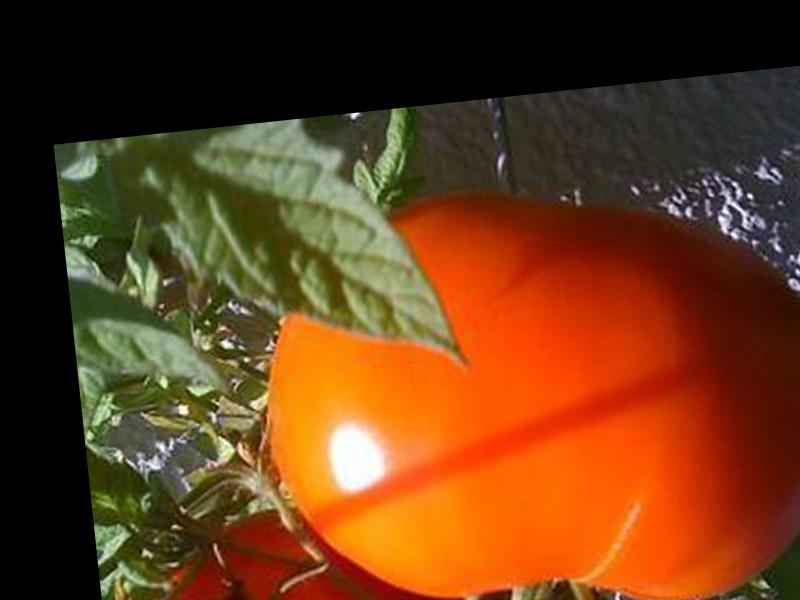Tomato: (245, 159, 800, 600)
